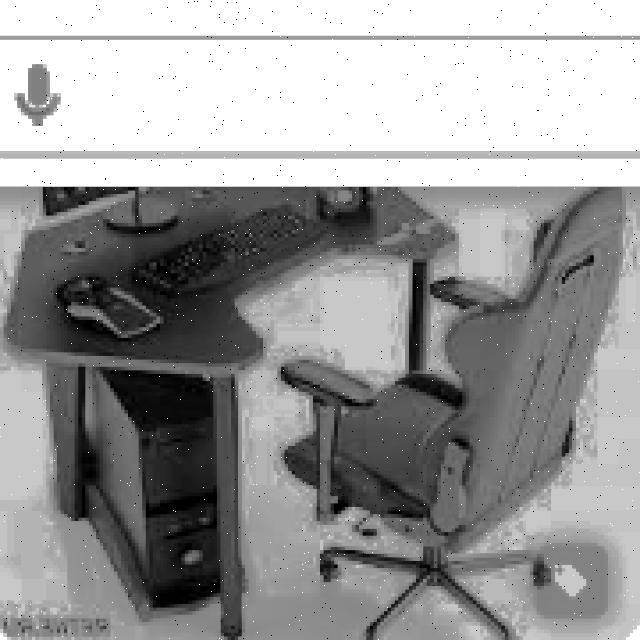book: (281, 183, 629, 640)
table: (4, 184, 462, 636)
